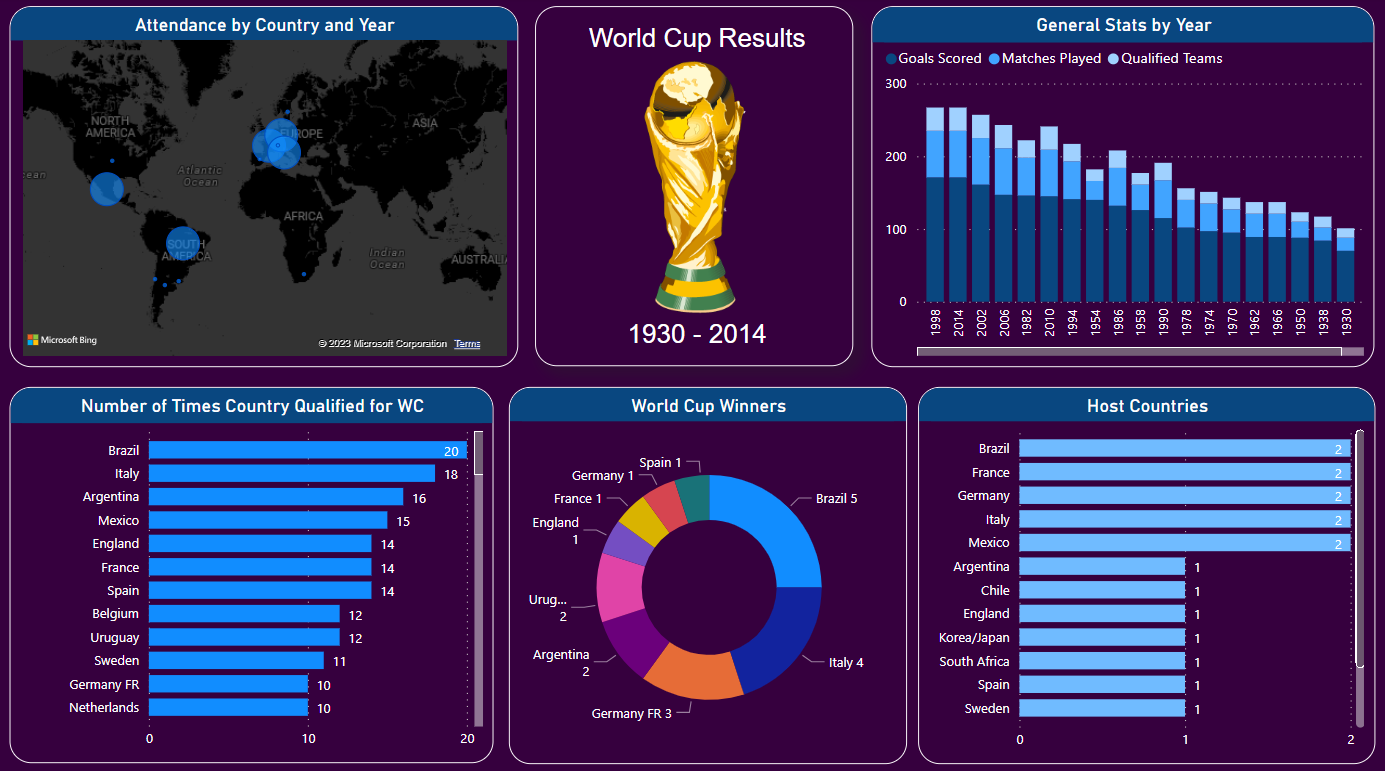

The page's visual inventory and layout, read from the dashboard file:
{"tool":"powerbi","page":{"name":"Page 1","canvas":[1280,720],"ordinal":0},"visuals":[{"type":"image","box":[495.5,8.4,292.9,331.7],"z":0},{"type":"textbox","box":[521.5,18.9,246,39],"z":1},{"type":"textbox","box":[521.5,292.1,246,40.2],"z":2},{"type":"columnChart","title":"General Stats by Year","fields":{"Y":["Sum(WorldCups.GoalsScored)","Sum(WorldCups.MatchesPlayed)","Sum(WorldCups.QualifiedTeams)"],"Category":["WorldCups.Year"]},"box":[805.3,8.3,463.5,332.3],"z":3},{"type":"donutChart","title":"World Cup Winners","fields":{"Y":["CountNonNull(WorldCups.Winner)"],"Category":["WorldCups.Winner"]},"box":[471.3,359,366.3,347.4],"z":4},{"type":"barChart","title":"Number of Times Country Qualified for WC","fields":{"Category":["World cup tableau format.Team"],"Y":["Count(World cup tableau format.Year)"]},"box":[11.8,359.5,445.8,346.5],"z":5},{"type":"barChart","title":"Host Countries","fields":{"Category":["WorldCups.Country"],"Y":["CountNonNull(WorldCups.Country)"]},"box":[848.1,359,420.9,347.4],"z":6},{"type":"map","title":"Attendance by Country and Year","fields":{"Category":["WorldCups.Country"],"Size":["CountNonNull(WorldCups.Attendance)"]},"box":[11.8,8.3,468.3,332.3],"z":7}]}

Visuals, with their boxes in screenshot pixels (x1, y1, x2, y2), scaled from the page's 1280x720 canvas onto the 1385x771 screenshot:
image: 536/9/853/364
textbox: 564/20/830/62
textbox: 564/313/830/356
"General Stats by Year" columnChart: 871/9/1373/365
"World Cup Winners" donutChart: 510/384/906/756
"Number of Times Country Qualified for WC" barChart: 13/385/495/756
"Host Countries" barChart: 918/384/1373/756
"Attendance by Country and Year" map: 13/9/519/365
